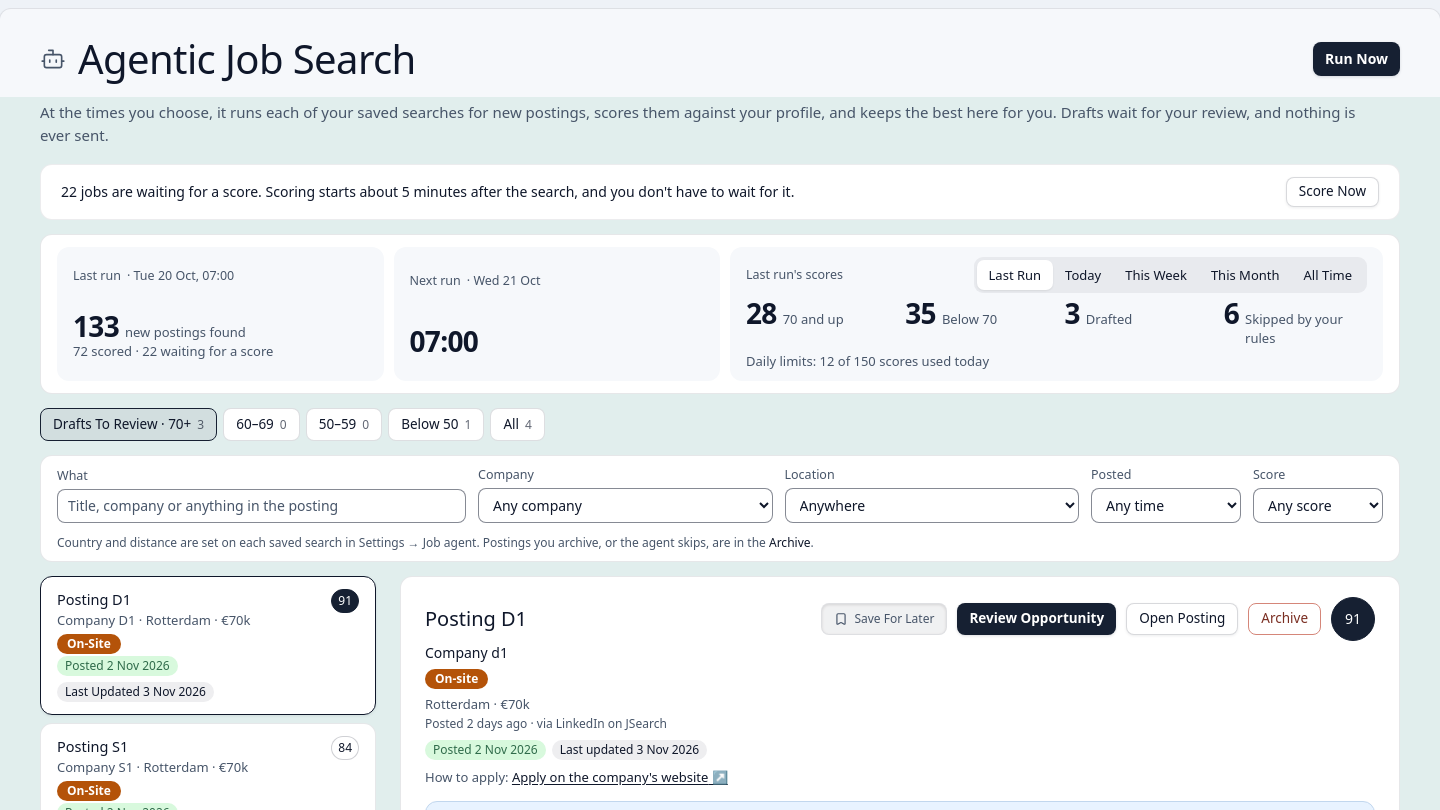
Test: jobs waiting for a score › offers Score now while nothing is scoring them
Expected: the text "22 jobs are waiting for a score. Scoring starts about 5 minutes after the search" is shown, [61,182,794,200]
Click the button "Score now": click(1332, 192) [1286,176,1379,206]
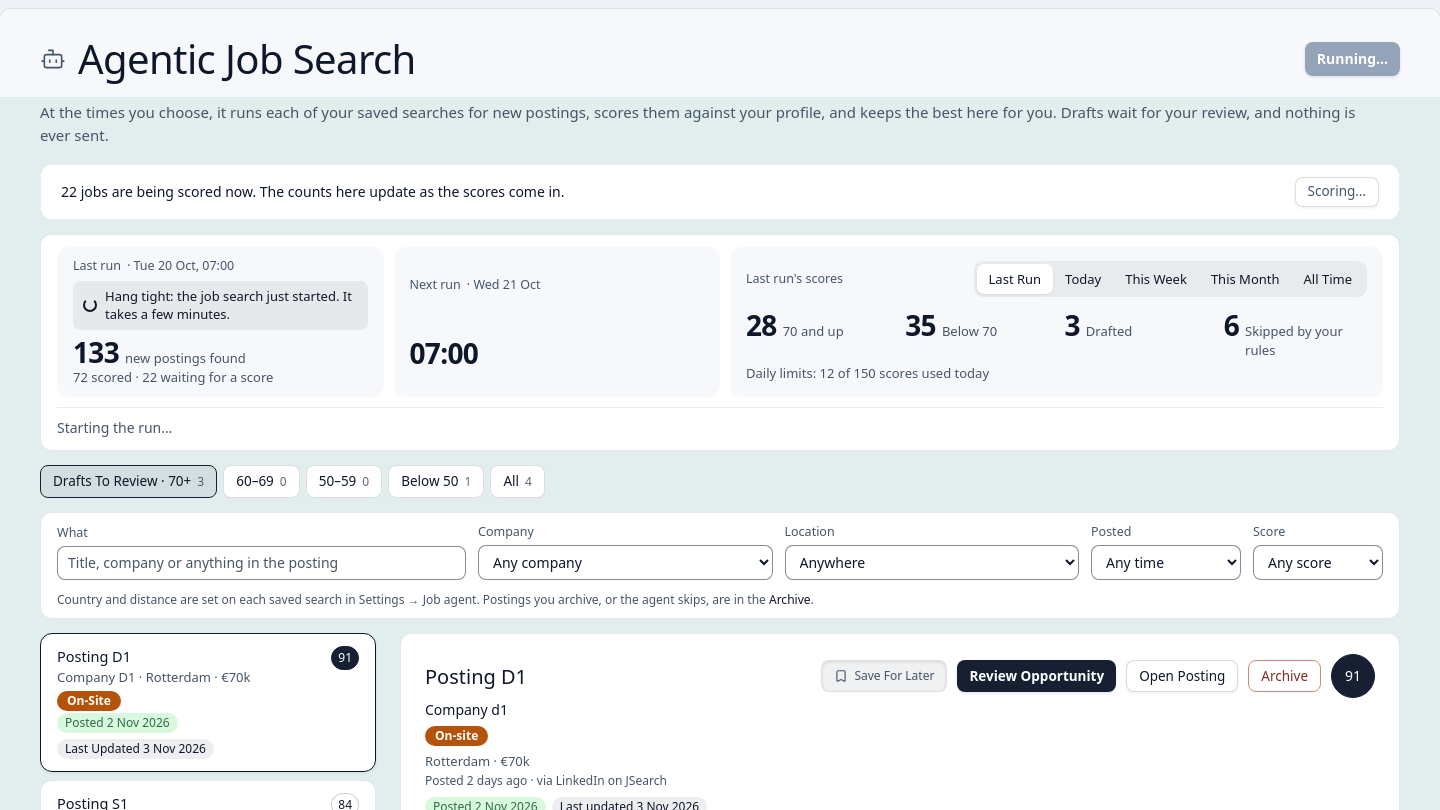
Expected: the button "Running…" is shown, [1305,42,1400,76]
